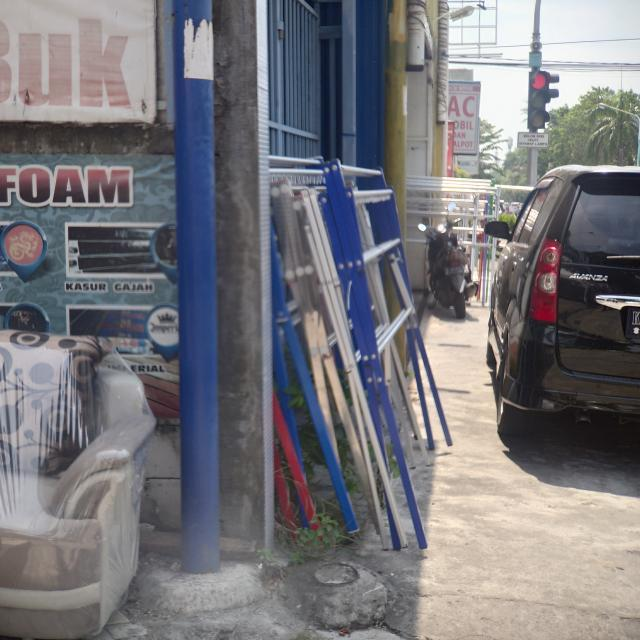red light: (528, 73, 550, 129)
